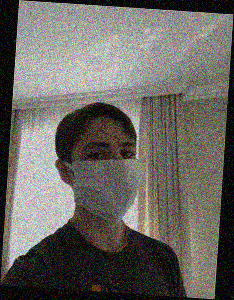with_mask: (68, 132, 142, 224)
